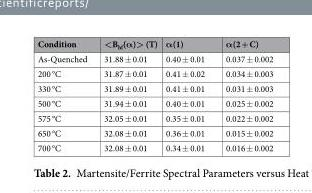table: (36, 37, 272, 153)
table column: (94, 37, 160, 153), (36, 37, 94, 153), (214, 37, 272, 153), (160, 37, 214, 153)
table column header: (36, 37, 272, 51)
table row: (36, 65, 272, 80), (36, 80, 272, 95), (36, 95, 272, 110), (36, 110, 272, 125), (36, 125, 272, 140), (36, 37, 272, 51), (36, 51, 272, 65), (36, 140, 272, 153)
